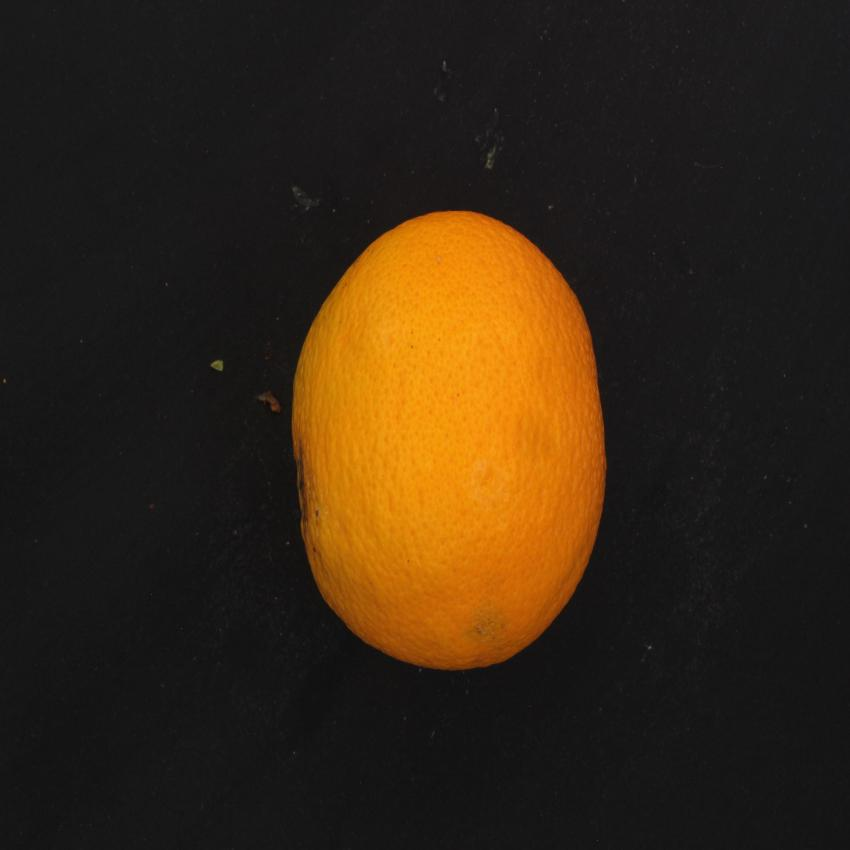Buen estado: (249, 188, 618, 691)
